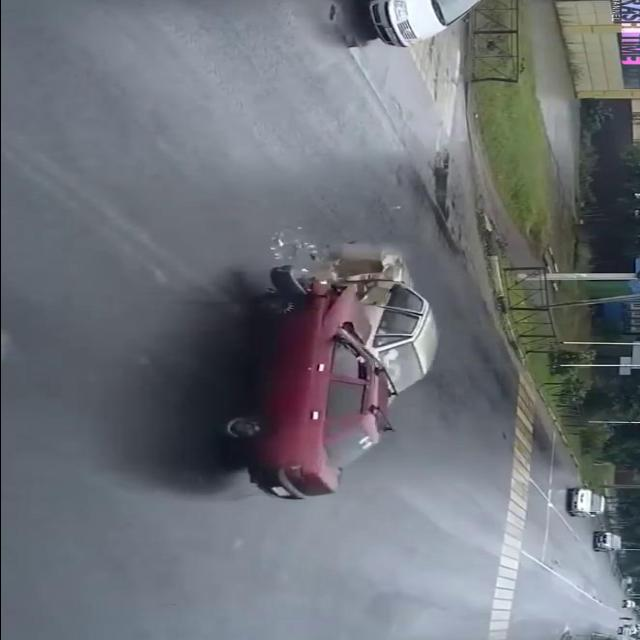accident: (205, 219, 449, 509)
